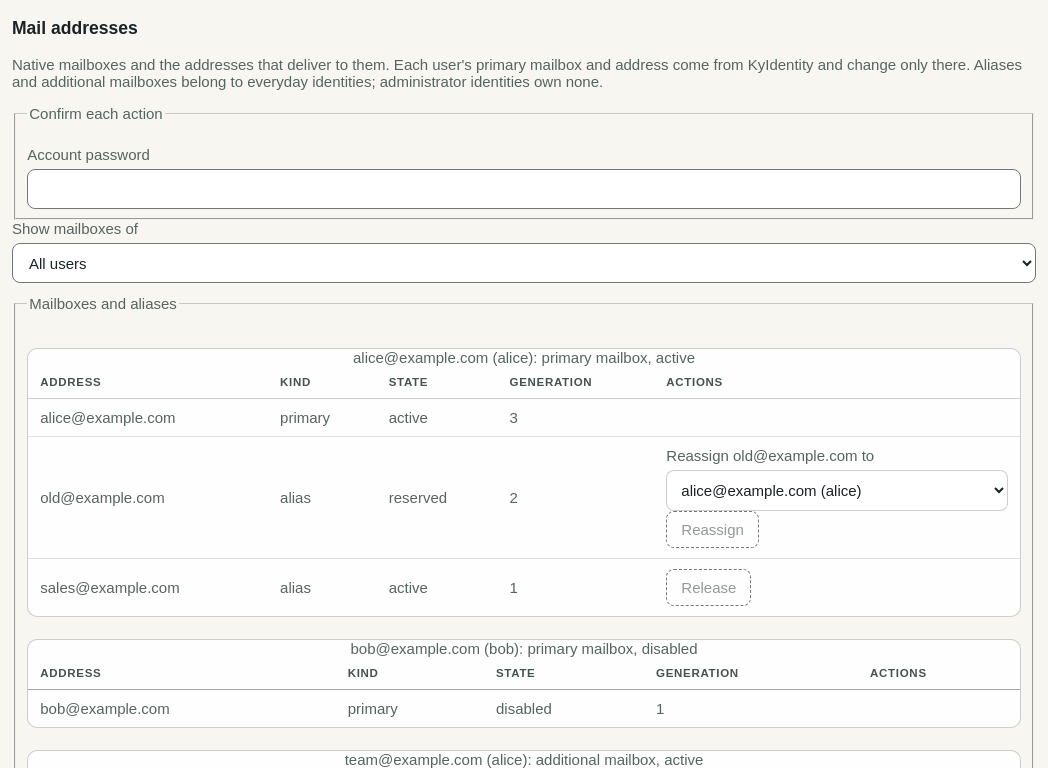
Test: says a committed change was saved when the follow-up read fails
The width and height of the screenshot is (1048, 768).
Expected: the text "sales@example.com" is shown, [28,559,268,616]
In the password field labelled "Account password": (524, 189) [27,169,1021,209], type "account-secret"
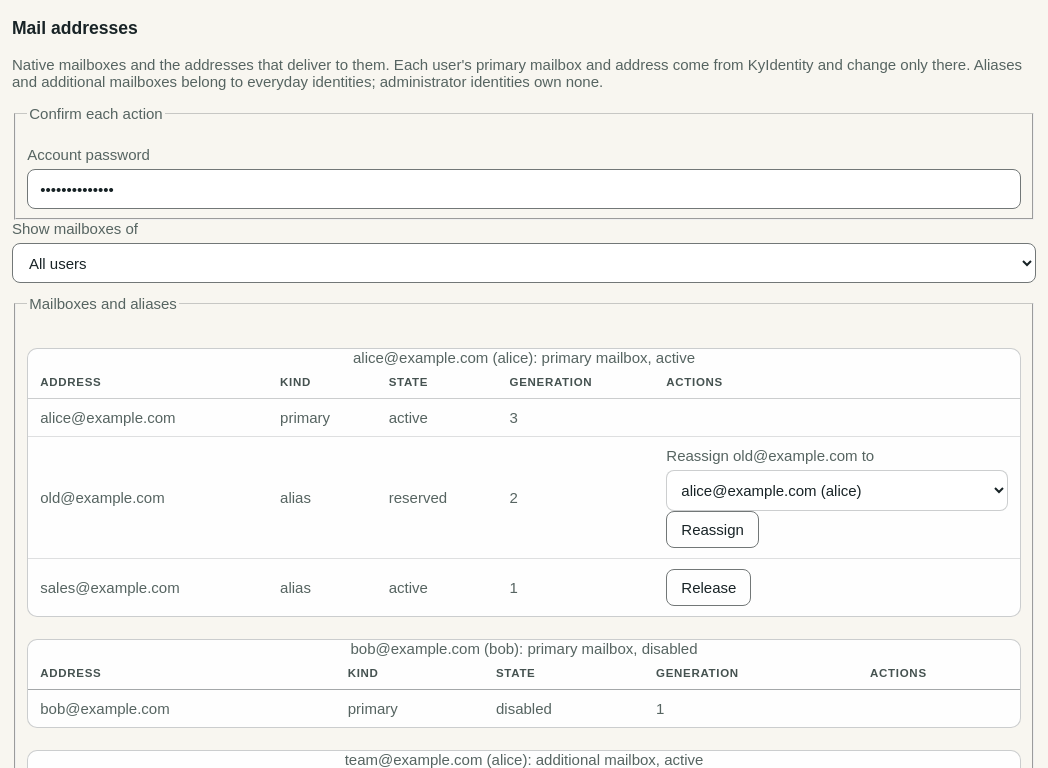
Click the button with aria-label "Release sales@example.com": (709, 588) [666,570,751,606]
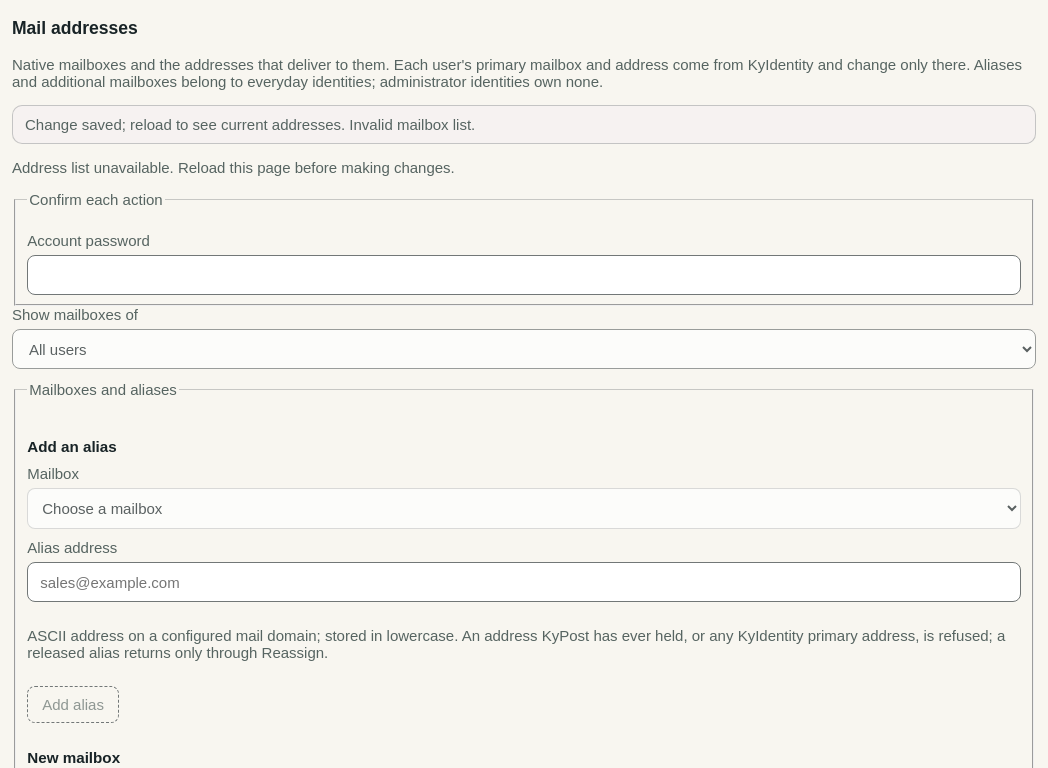
Expected: the message reads "Change saved; reload to see current addresses. Invalid mailbox list.", [25,116,475,133]
Expected: the element "Confirm each action" is disabled, [14,191,1034,306]
